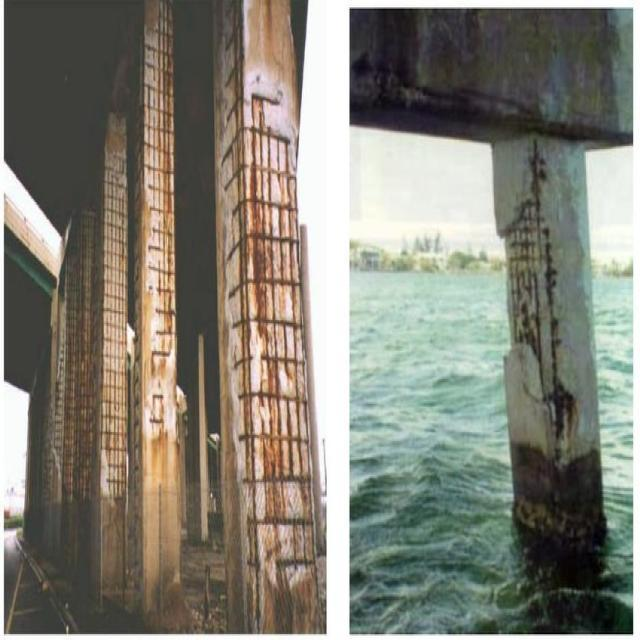corrosion: (247, 100, 270, 340), (258, 344, 288, 484), (249, 3, 293, 84), (547, 379, 578, 445), (161, 85, 171, 220), (159, 264, 174, 346)
